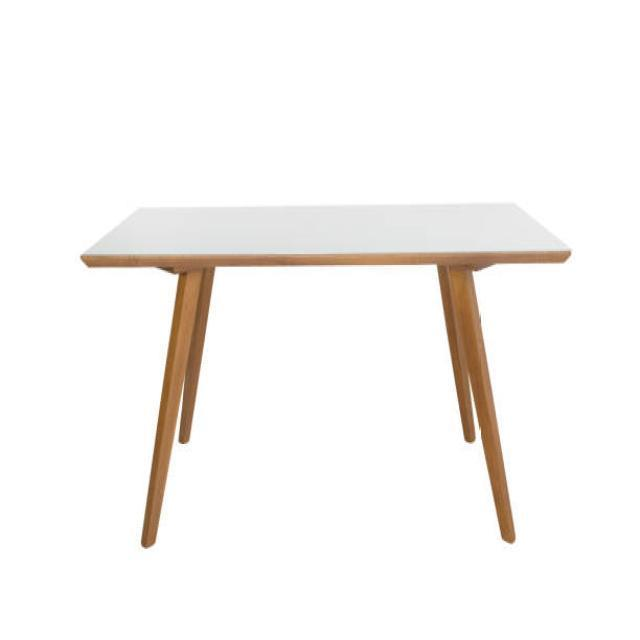table: (80, 201, 572, 549)
